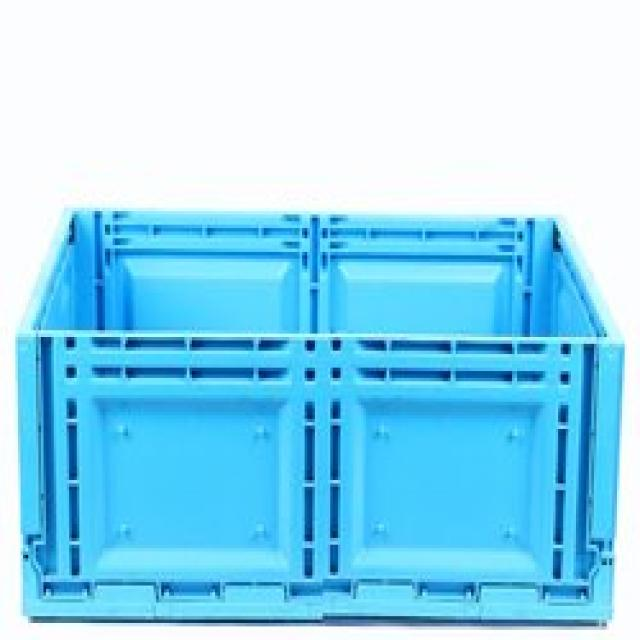basket: (10, 210, 630, 632)
